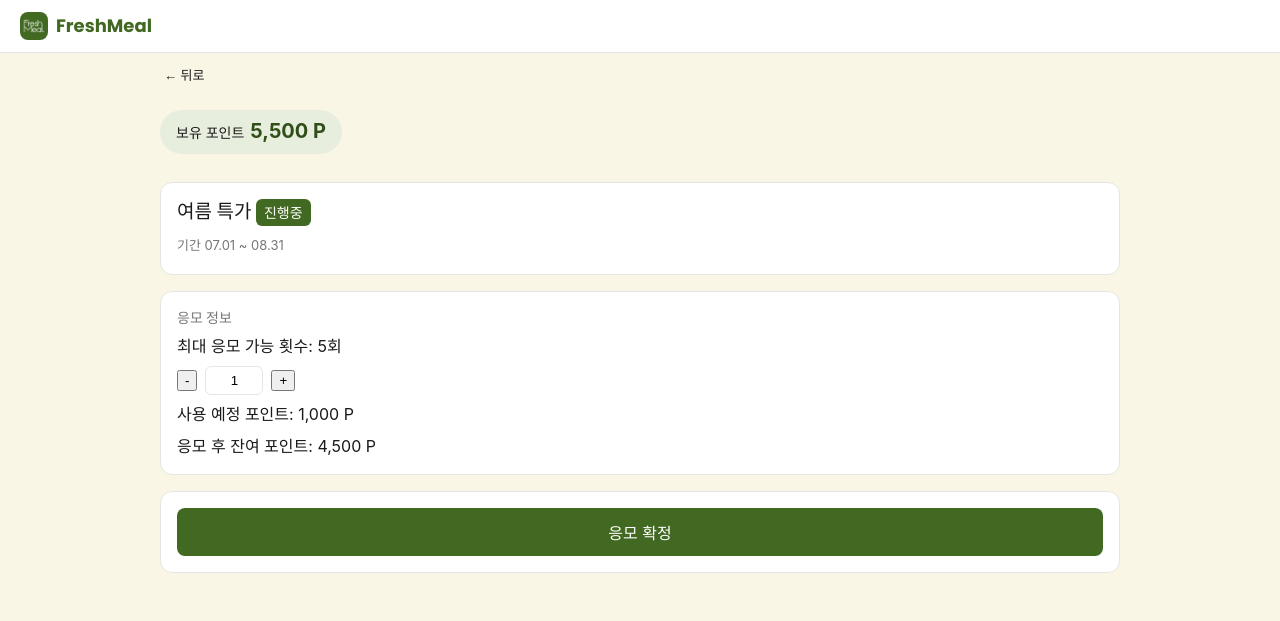
Test: EventDetailPage › 이벤트 종료 에러 응답 메시지가 그대로 표시된다
This screenshot has width=1280, height=621.
Click the button "응모 확정" at (640, 532), box top-left (177, 508), bottom-right (1103, 556)
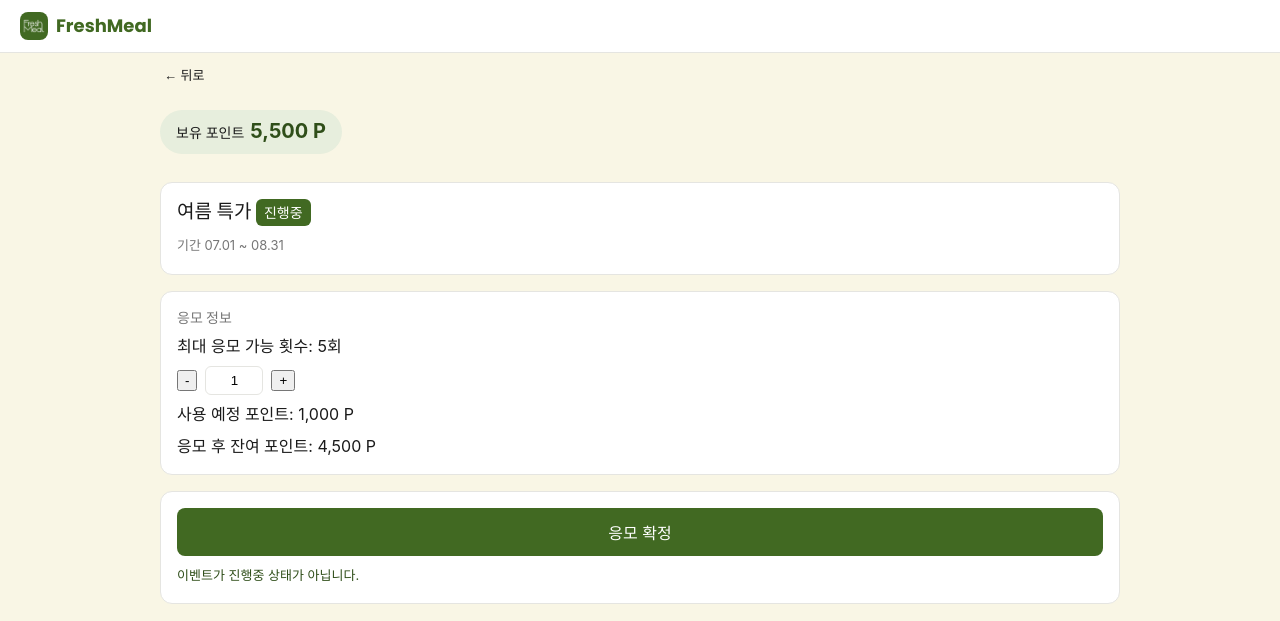
Check: the text "이벤트가 진행중 상태가 아닙니다." is shown, box top-left (177, 567), bottom-right (359, 583)
